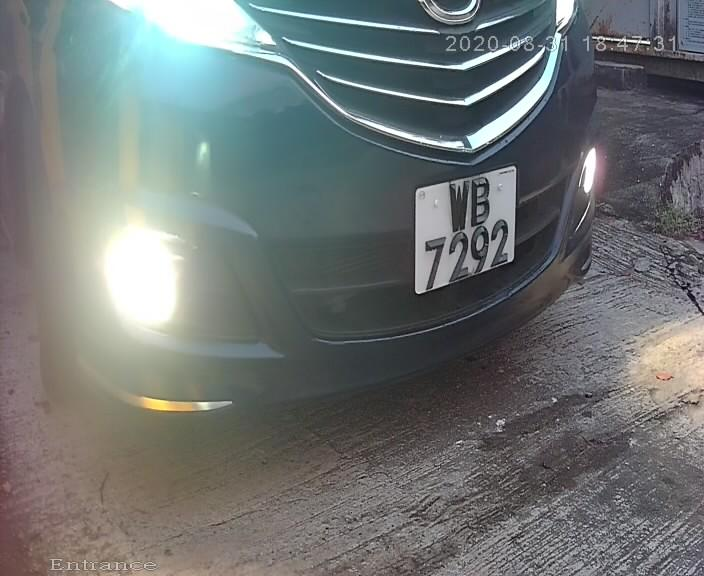License Plate: (406, 160, 525, 299)
